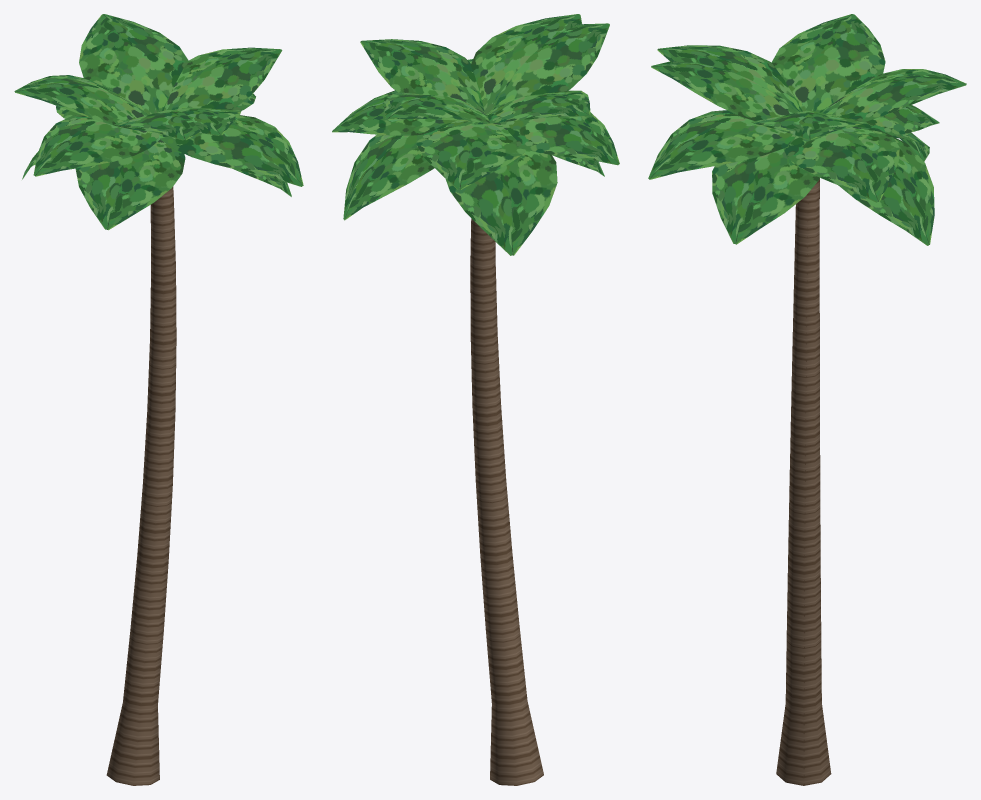
Rendered from tree_fan_palm.glb.
3 views of the same model, side by side, from view 1: azimuth 30°, elevation 25°; view 2: azimuth 150°, elevation 25°; view 3: azimuth 270°, elevation 25° (orthographic). The views are drawn at different scales.
Parts seen in each view (by area): view 1: canopy, trunk; view 2: canopy, trunk; view 3: canopy, trunk.
Boxes of the visible parts, box(x1,y1,x2,y2) form: canopy: box(14, 14, 303, 230); trunk: box(106, 186, 176, 785); canopy: box(332, 14, 619, 255); trunk: box(470, 218, 543, 785); canopy: box(648, 14, 966, 245); trunk: box(776, 179, 831, 785).
Size of the model in its own units: 4.32 by 11.5 by 4.63.
2 materials, 2 textured.
